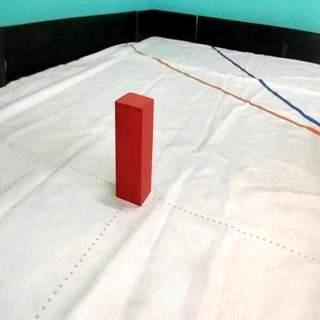redbox: (114, 90, 154, 206)
